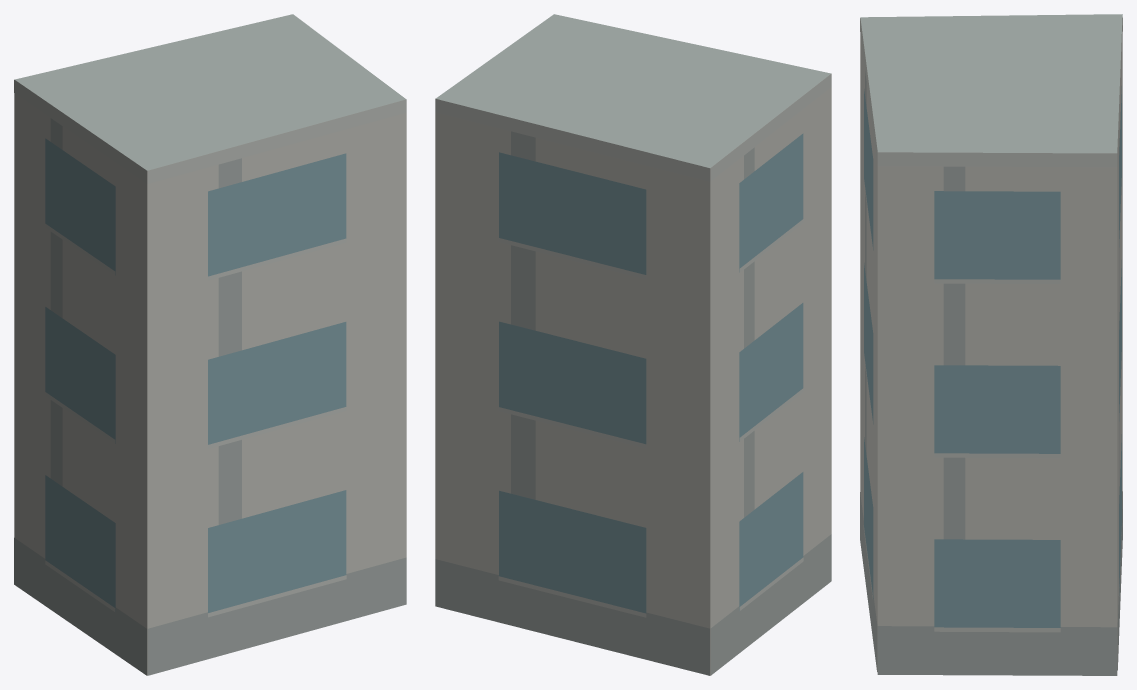
File: survey-upis-32647960.glb
The picture shows the model from 3 angles, left to right: view 1: azimuth 30°, elevation 25°; view 2: azimuth 150°, elevation 25°; view 3: azimuth 270°, elevation 25°; orthographic projection. The views are drawn at different scales.
Visible parts, largest first — view 1: survey-upis-32647960.tmp; view 2: survey-upis-32647960.tmp; view 3: survey-upis-32647960.tmp.
Part boxes in pixels (box(x1,y1,x2,y2)): survey-upis-32647960.tmp: box(14, 14, 406, 675); survey-upis-32647960.tmp: box(435, 14, 831, 675); survey-upis-32647960.tmp: box(860, 14, 1122, 675).
Size of the model in its own units: 5.25 by 9.15 by 4.17.
